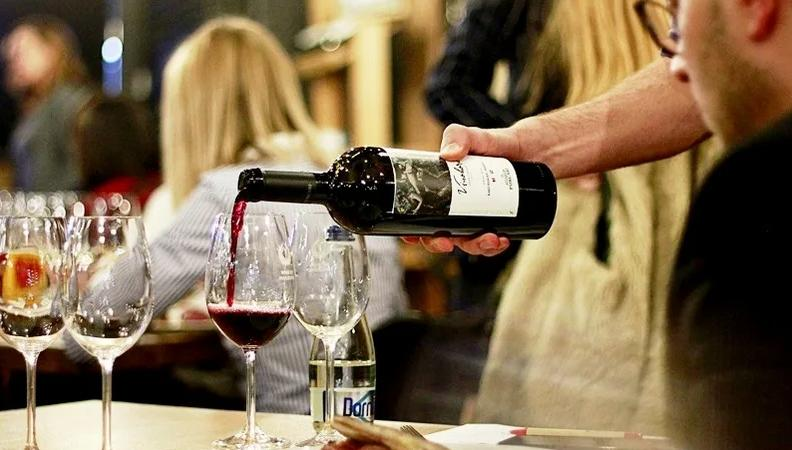wine bottle: (236, 145, 558, 241)
wine label: (377, 147, 521, 217)
